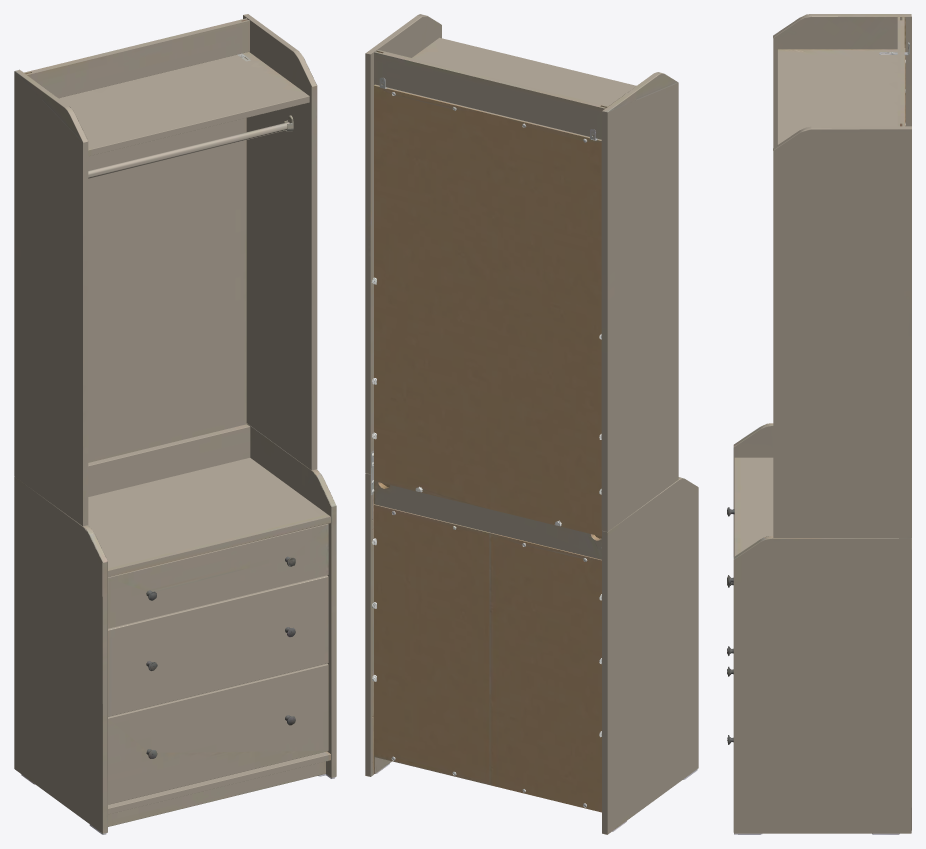
File: 23 - HAUGA - 開放式衣櫃附3抽屜, 米色, 70x199 公分 IKEA 線上購物.glb
3 renders of one model, left to right at view 1: azimuth 30°, elevation 25°; view 2: azimuth 150°, elevation 25°; view 3: azimuth 270°, elevation 25°, orthographic. The views are drawn at different scales.
Visible parts, largest first — view 1: 70456925-HAUGA001; view 2: 70456925-HAUGA001; view 3: 70456925-HAUGA001.
Boxes of the visible parts, x1,y1,x2,y2 form: 70456925-HAUGA001: [14, 14, 336, 834]; 70456925-HAUGA001: [365, 14, 698, 834]; 70456925-HAUGA001: [727, 14, 911, 834].
Size of the model in its own units: 0.6966 by 1.99 by 0.4713.
1 material, 1 textured.
